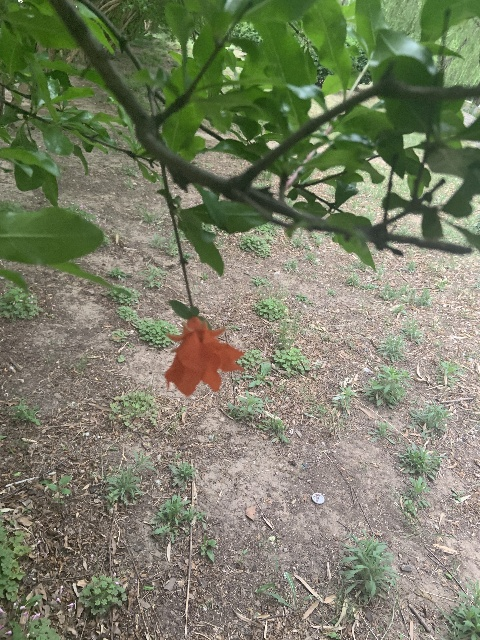flower: (163, 316, 244, 396)
